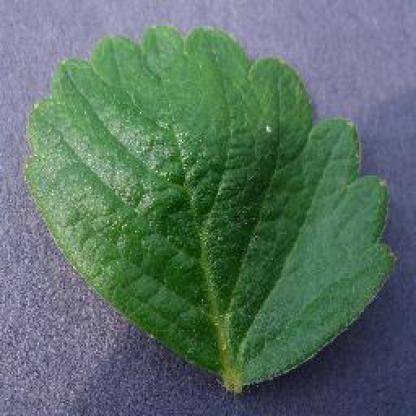healthy: (20, 19, 400, 403)
